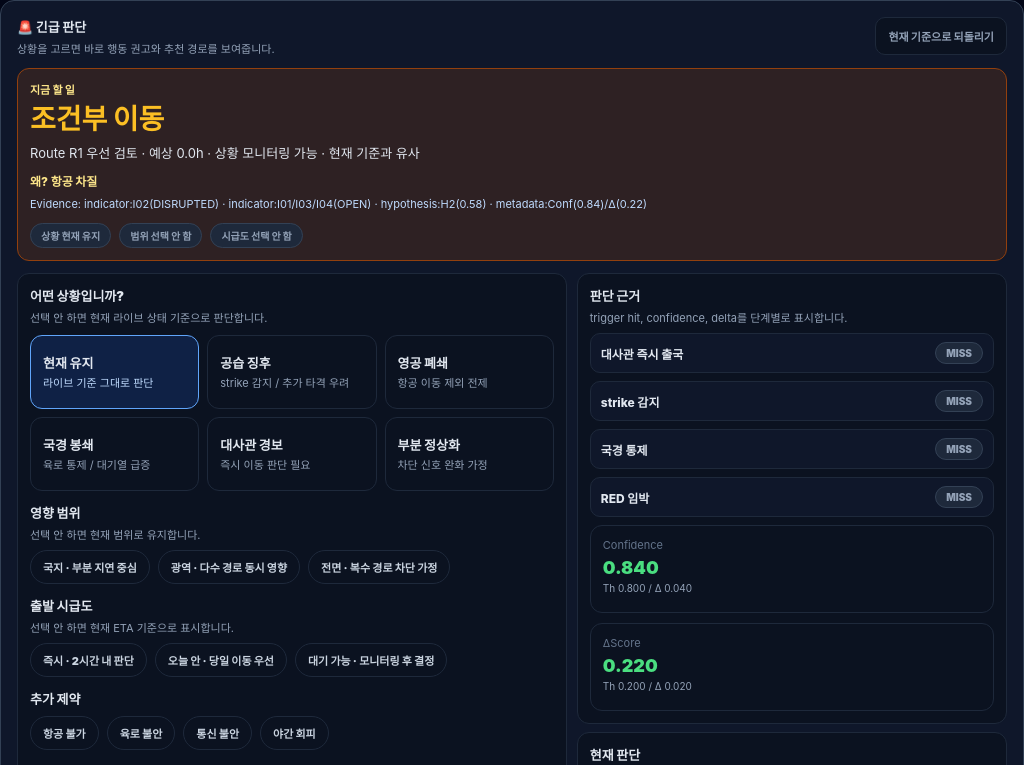
Test case: Simulator › recomputes the guidance and logs once when a scenario changes
The width and height of the screenshot is (1024, 765).
Click the button "영공 폐쇄 항공 이동 제외 전제".
click(469, 372)  # box top-left (384, 335), bottom-right (554, 409)
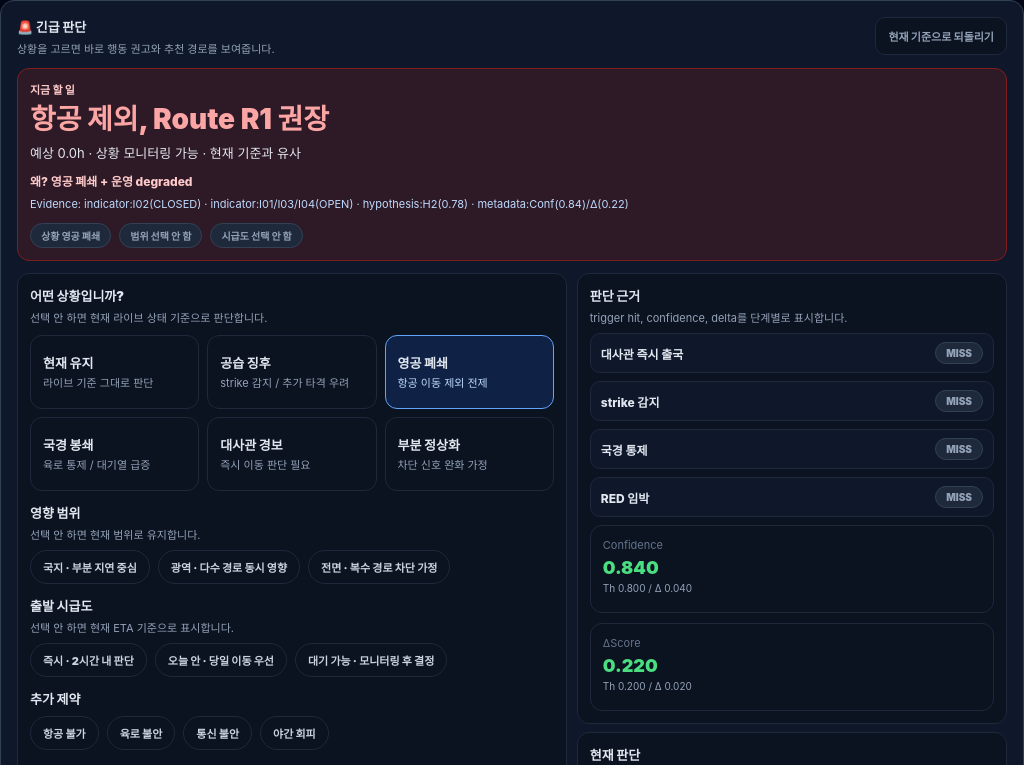
expect the text "항공 제외, Route R1 권장" is shown: met, box top-left (30, 102), bottom-right (329, 136)
expect the text "상황 영공 폐쇄" is shown: met, box top-left (30, 223), bottom-right (111, 248)
